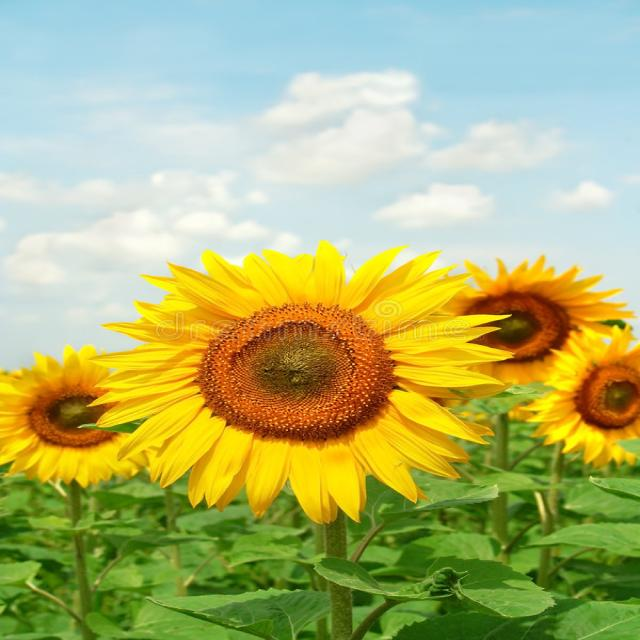sunflower: (67, 236, 511, 533), (420, 254, 640, 390), (0, 352, 167, 502), (533, 314, 640, 473)
